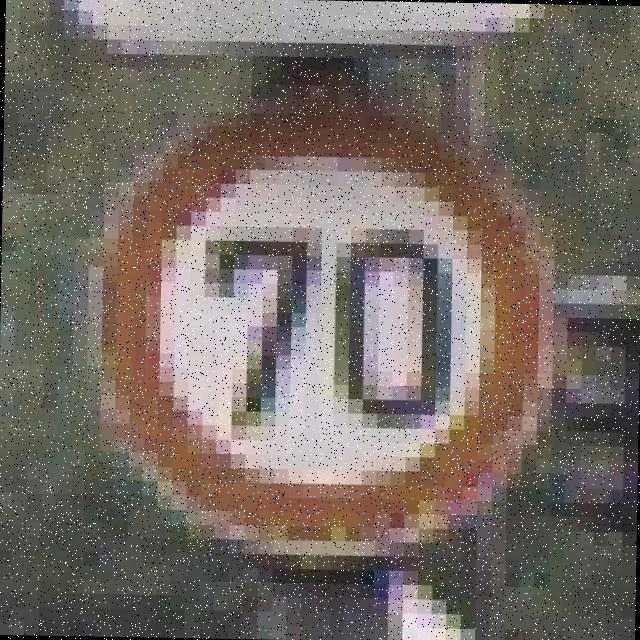Ograniczenie predkosci do 70: (89, 91, 552, 559)
